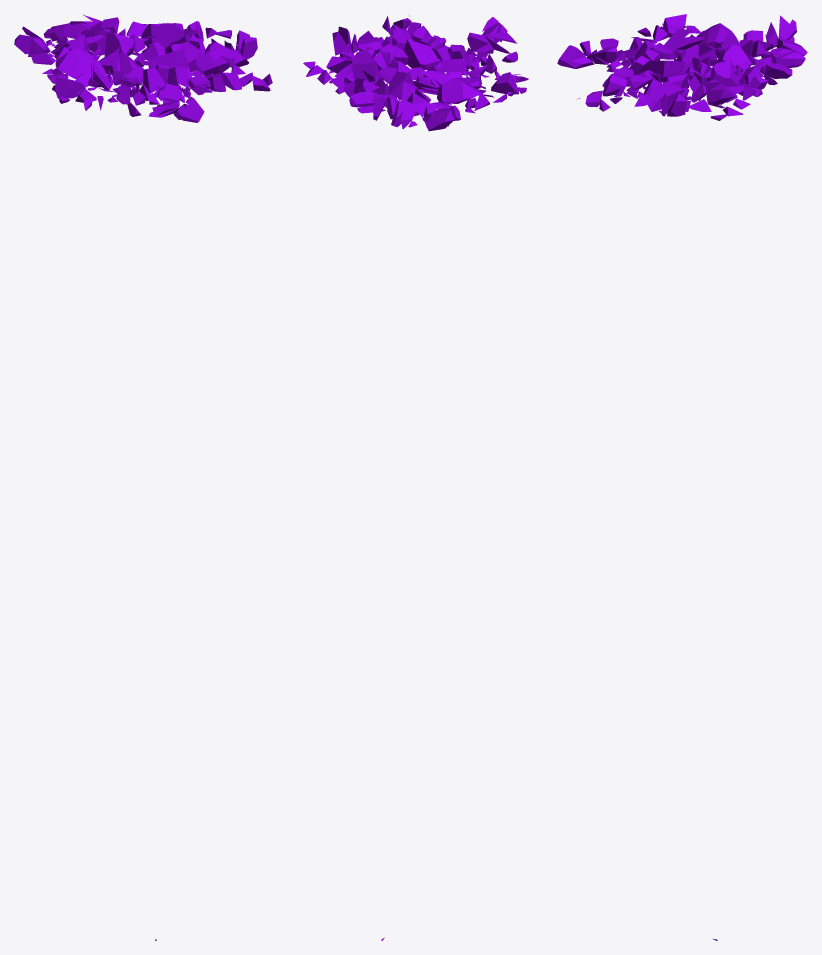
Rendered from FineGrindedCrystal.glb.
3 views of the same model, side by side, from view 1: azimuth 30°, elevation 25°; view 2: azimuth 150°, elevation 25°; view 3: azimuth 270°, elevation 25° (orthographic). The views are drawn at different scales.
Visible parts, largest first — view 1: FineGrindedCrystal; view 2: FineGrindedCrystal; view 3: FineGrindedCrystal.
Part boxes in pixels (x1,y1,x2,y2): FineGrindedCrystal: (14, 14, 272, 940); FineGrindedCrystal: (303, 15, 528, 940); FineGrindedCrystal: (557, 14, 807, 940).
Size of the model in its own units: 1.03 by 4.5 by 1.16.
